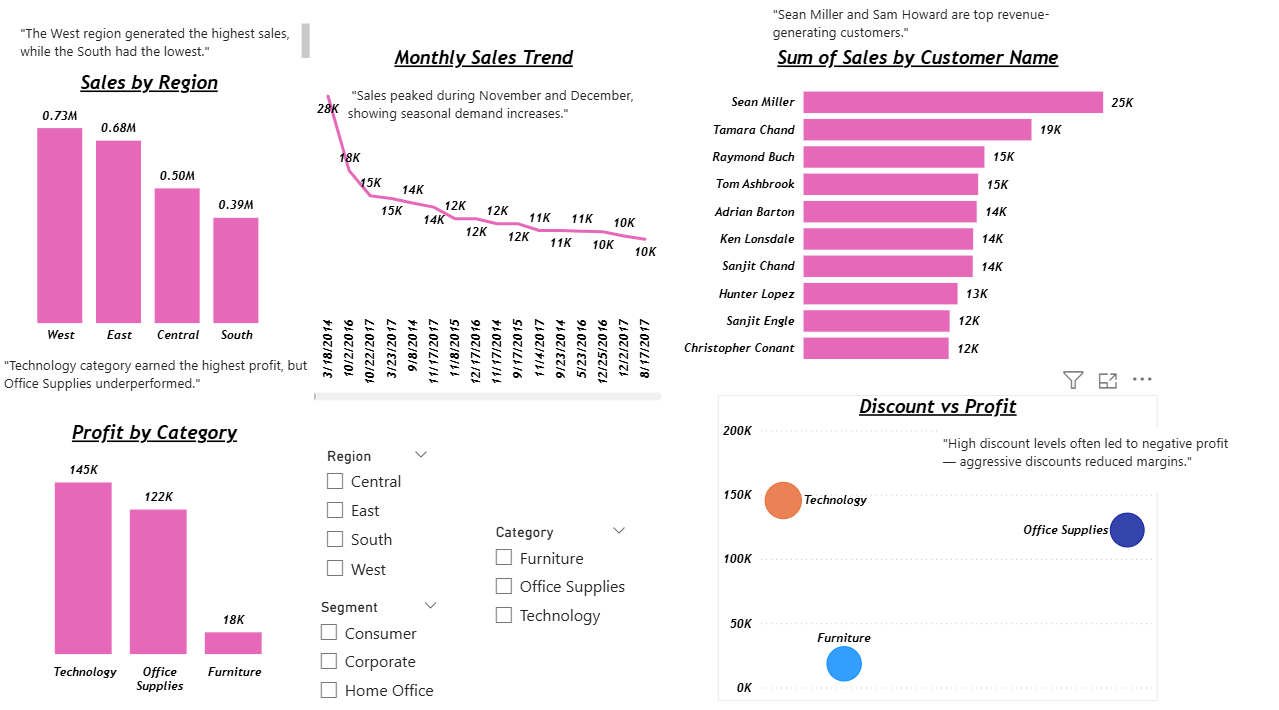

This screenshot's page, from the dashboard's own definition file:
{"tool":"powerbi","page":{"name":"Page 1","canvas":[1280,720],"ordinal":0},"visuals":[{"type":"clusteredColumnChart","title":"Sales by Region","fields":{"Category":["Sample - Superstore.Region"],"Y":["Sample - Superstore.Sales"]},"box":[9.8,70.9,280,280],"z":0},{"type":"columnChart","title":"Profit by Category","fields":{"Category":["Sample - Superstore.Category"],"Y":["Sample - Superstore.Profit"]},"box":[9.8,420.7,291,280],"z":1000},{"type":"lineChart","title":"Monthly Sales Trend","fields":{"Category":["Sample - Superstore.Order Date"],"Y":["Sample - Superstore.Sales"]},"box":[300.8,46.5,366.8,359.5],"z":2000},{"type":"barChart","fields":{"Category":["Sample - Superstore.Customer Name"],"Y":["Sample - Superstore.Sales"]},"box":[679.2,46.7,480.3,329.3],"z":3000},{"type":"scatterChart","title":"Discount vs Profit","fields":{"X":["Sample - Superstore.Discount"],"Y":["Sample - Superstore.Profit"],"Size":["Sample - Superstore.Sales"],"Series":["Sample - Superstore.Category"]},"box":[719,395,440.2,305.7],"z":4000},{"type":"slicer","fields":{"Values":["Sample - Superstore.Region"]},"box":[315.5,442.7,126,149.2],"z":5000},{"type":"slicer","fields":{"Values":["Sample - Superstore.Category"]},"box":[484.2,518.5,155.3,139.4],"z":6000},{"type":"slicer","fields":{"Values":["Sample - Superstore.Segment"]},"box":[308.2,594.3,141.8,126],"z":7000},{"type":"textbox","box":[15.9,18.3,299.6,52.6],"z":8000},{"type":"textbox","box":[0,351,315.5,55],"z":9000},{"type":"textbox","box":[343.6,80.7,313,46.5],"z":10000},{"type":"textbox","box":[769.2,0,299.6,46.5],"z":11000},{"type":"textbox","box":[939.1,429.2,299.6,62.4],"z":12000}]}

Visuals, with their boxes in screenshot pixels (x1, y1, x2, y2), scaled from the page's 1280x720 canvas onto the 1279x710 screenshot:
"Sales by Region" clusteredColumnChart: 10, 70, 290, 346
"Profit by Category" columnChart: 10, 415, 301, 691
"Monthly Sales Trend" lineChart: 301, 46, 667, 400
barChart - Sample - Superstore.Customer Name x Sample - Superstore.Sales: 679, 46, 1159, 371
"Discount vs Profit" scatterChart: 718, 390, 1158, 691
slicer - Sample - Superstore.Region: 315, 437, 441, 584
slicer - Sample - Superstore.Category: 484, 511, 639, 649
slicer - Sample - Superstore.Segment: 308, 586, 450, 709
textbox: 16, 18, 315, 70
textbox: 0, 346, 315, 400
textbox: 343, 80, 656, 125
textbox: 769, 0, 1068, 46
textbox: 938, 423, 1238, 485
